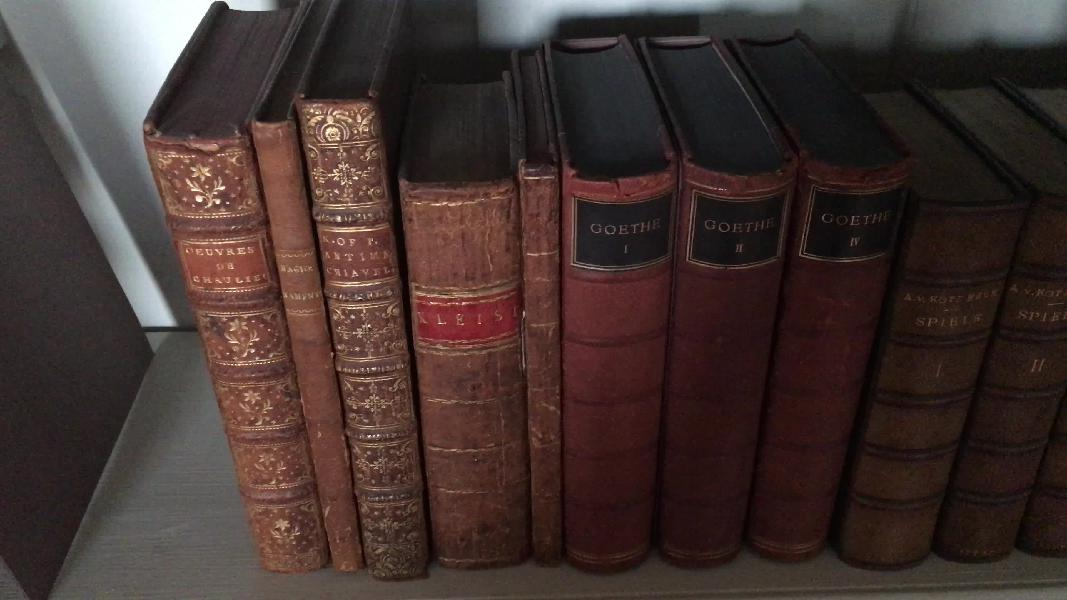Aa6-10: (518, 166, 568, 572)
Aa6-11_13: (548, 160, 885, 578)
Aa6-14_17: (836, 193, 1067, 575)
Aa6-6: (139, 128, 326, 575)
Aa6-7: (236, 127, 364, 578)
Aa6-8: (297, 96, 440, 588)
Aa6-9: (390, 170, 532, 571)
